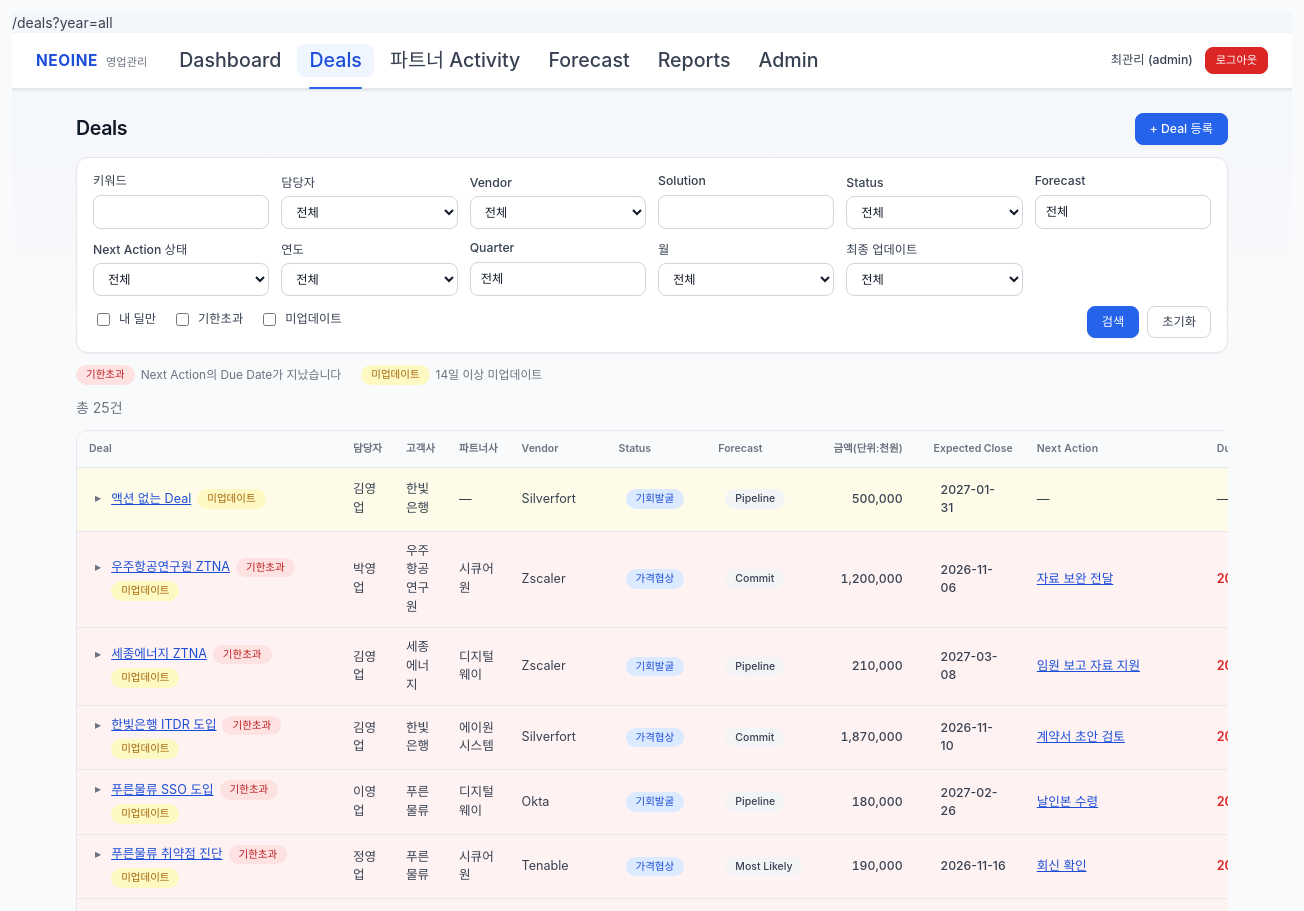
상세 Status 체류 표시 (AC-13, Q3) › shows the stale badge on a deal that has no action at all
Expected: the row "한빛은행 ITDR 도입" is shown, [77,706,1228,770]
What coordinates should you click on to do the following:
click the link "액션 없는 Deal"
I would click on:
 (151, 499)
Its box is [111,490,191,509].
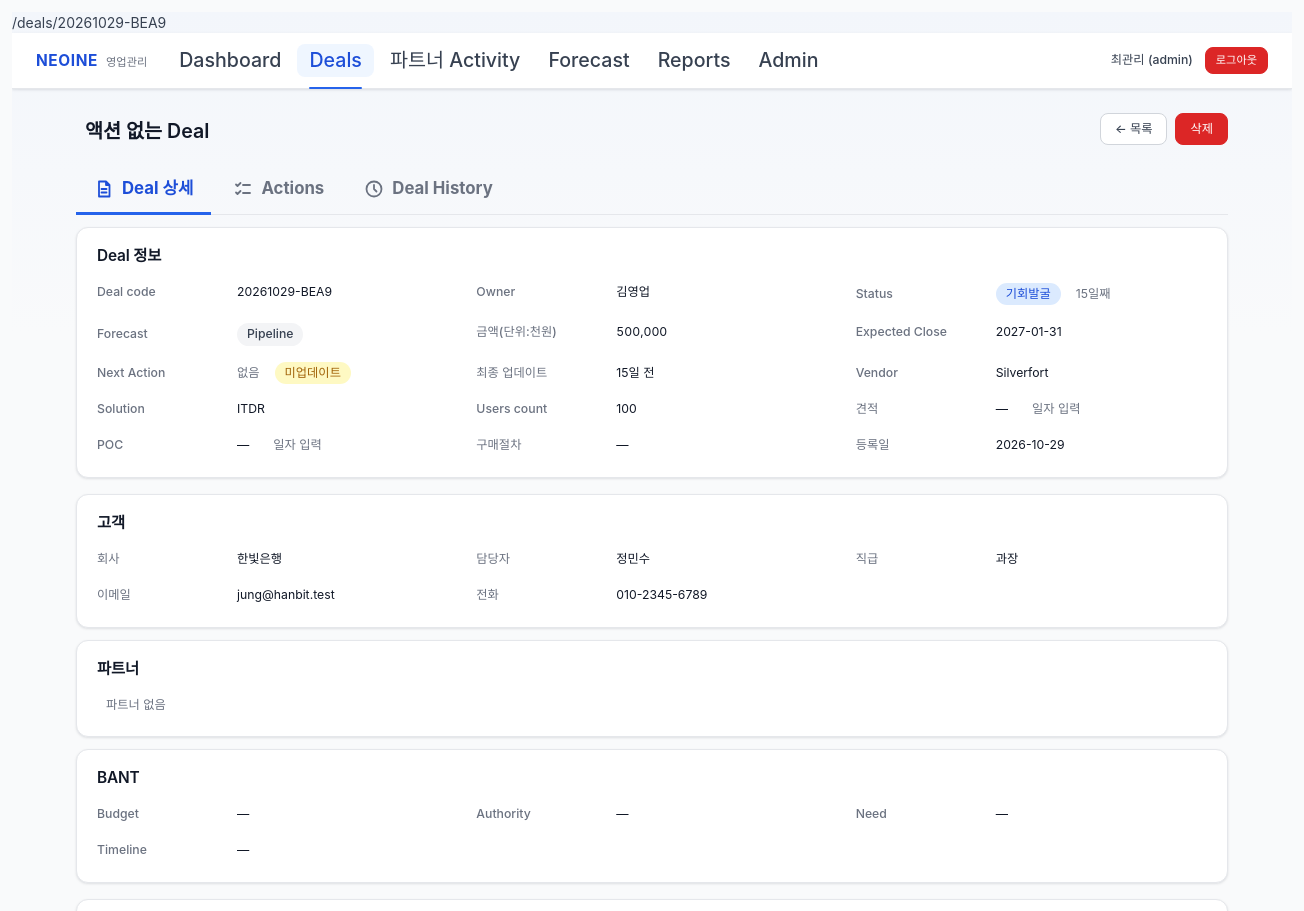
Expected: the text "미업데이트" is shown, [274,362,351,384]
Expected: the text "15일째" is shown, [1076,285,1111,303]
